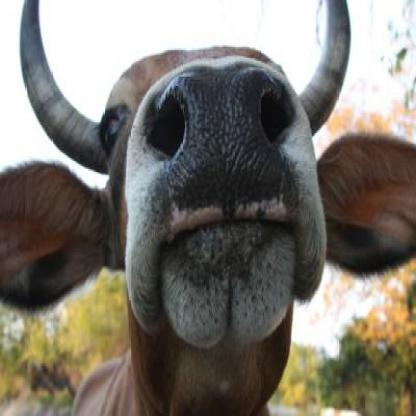lower: (207, 233, 247, 284)
mouth: (130, 62, 326, 343)
upper: (206, 94, 237, 134)
